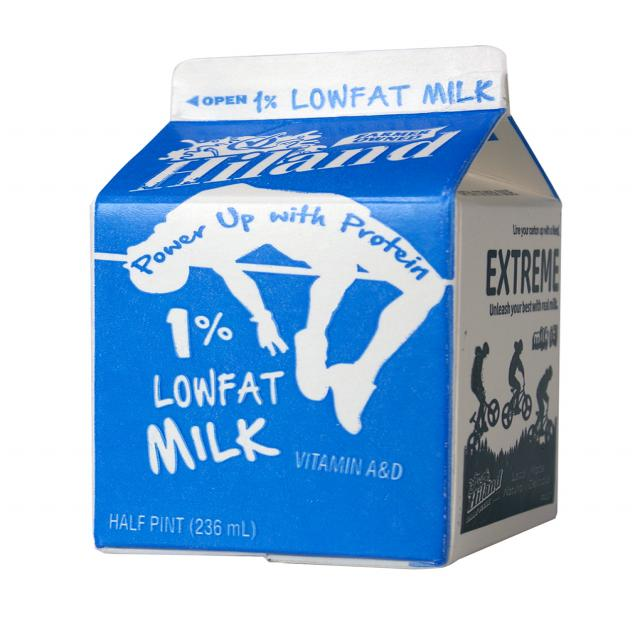non_white_jug: (87, 43, 598, 575)
